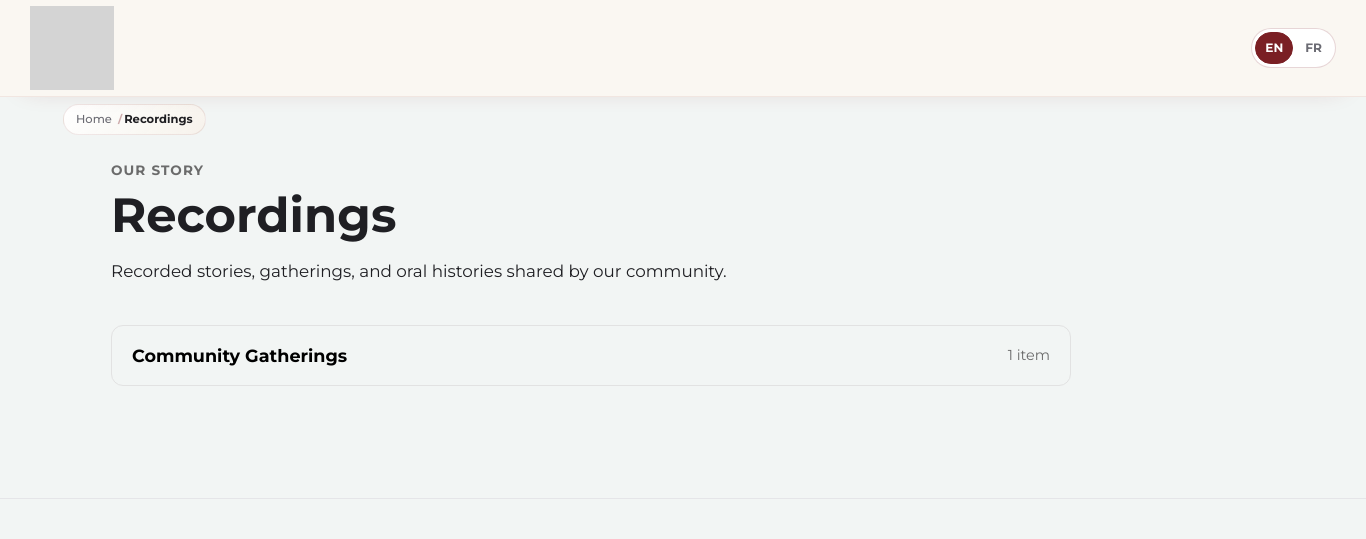
Test case: Recordings page › loads collections, expands an item, and shows the pending recording state
This screenshot has width=1366, height=539.
expect the heading "Recordings" is shown: met, box [111,186,396,244]
Click the button "Community Gatherings 1 item": [240, 355] box [112,326,1070,385]
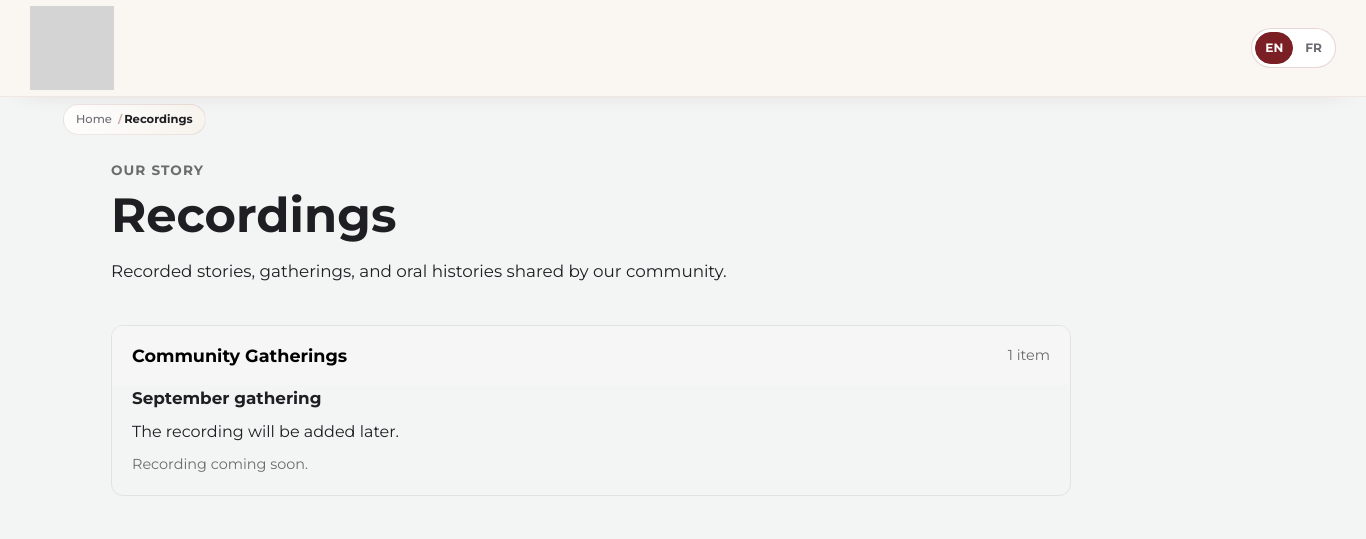
expect the heading "September gathering" is shown: met, box [132,388,322,408]
expect the text "The recording will be added later." is shown: met, box [132,422,399,441]
expect the text "Recording coming soon." is shown: met, box [132,455,308,473]
